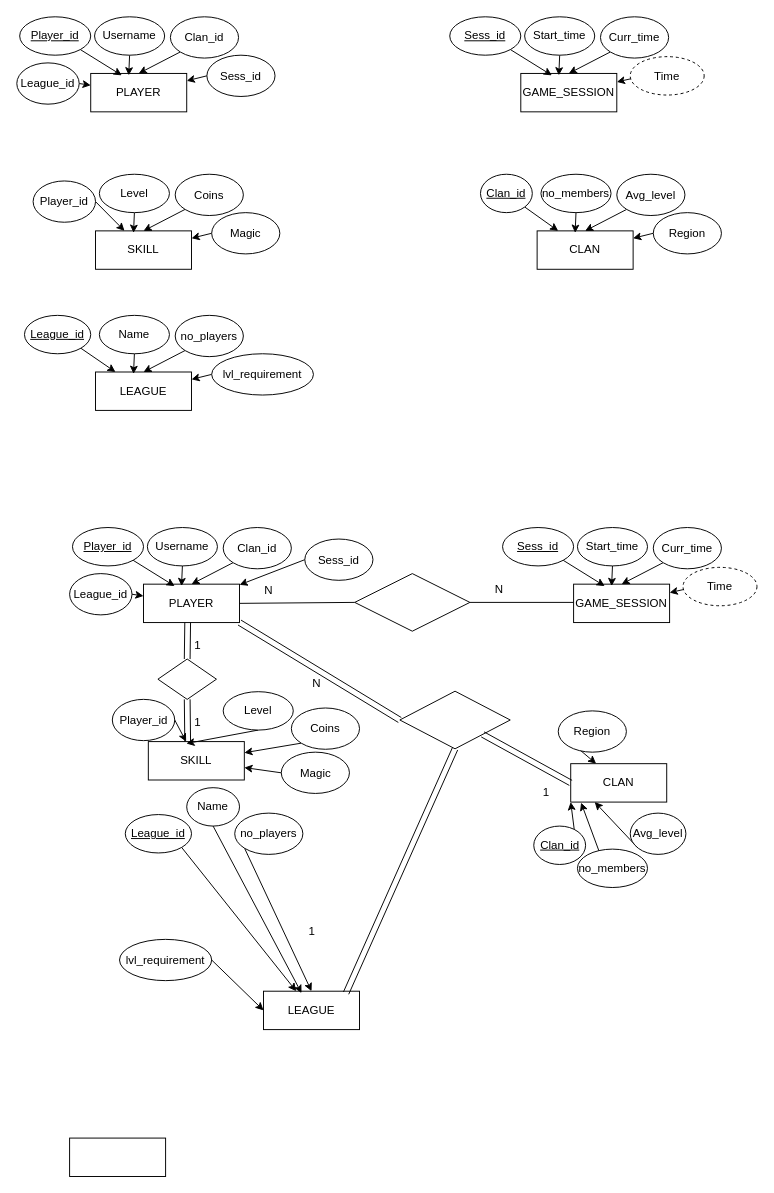
The diagram is 774 pixels wide and 1193 high, and some of its shapes have lost their labels. Each missing label, with the box of its shape:
BELONGS_TO: (399, 690, 510, 749)
Entity: (69, 1137, 166, 1176)
HAS: (157, 658, 216, 699)
JOINS: (354, 573, 470, 631)
